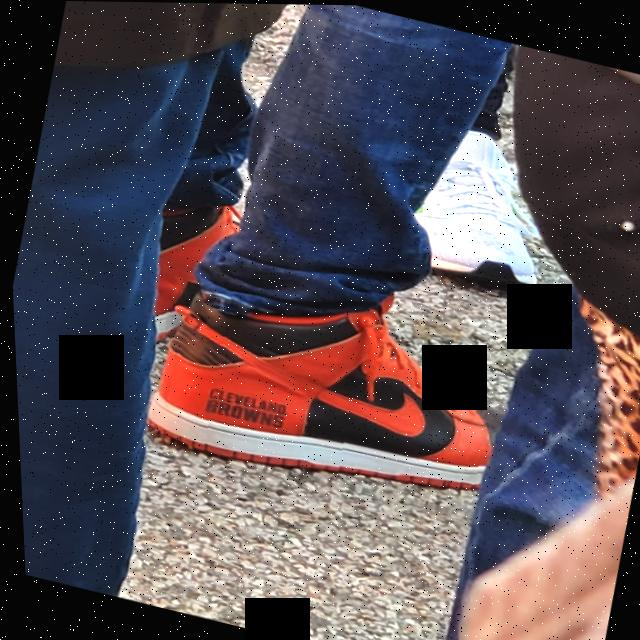shoe: (124, 241, 573, 532)
